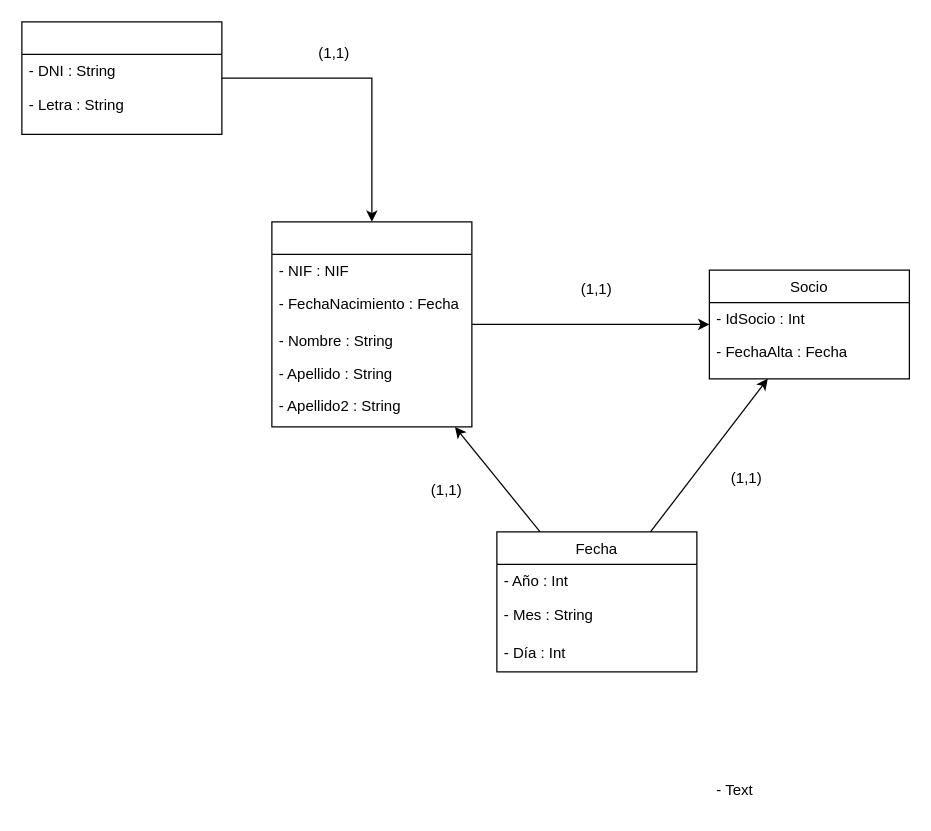
Some shapes in this 931 by 831 pixel diagram are drawn without their labels. The box of each missing label's shape, as (x1, y1, x2, y2) in pixels:
NIF: (21, 21, 222, 134)
Persona: (271, 221, 472, 427)
